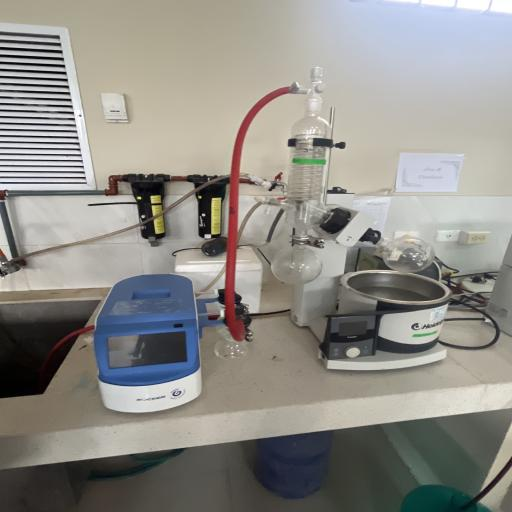Sistema_Rotaevaporacion: (46, 56, 462, 406)
